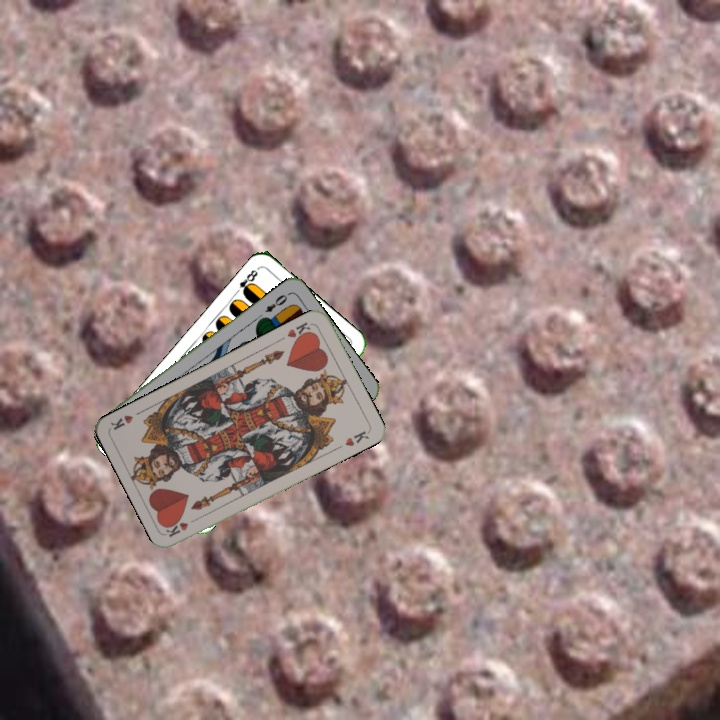E8: (231, 264, 262, 298)
EO: (261, 290, 290, 315)
HK: (162, 513, 202, 540), (283, 318, 315, 344)
